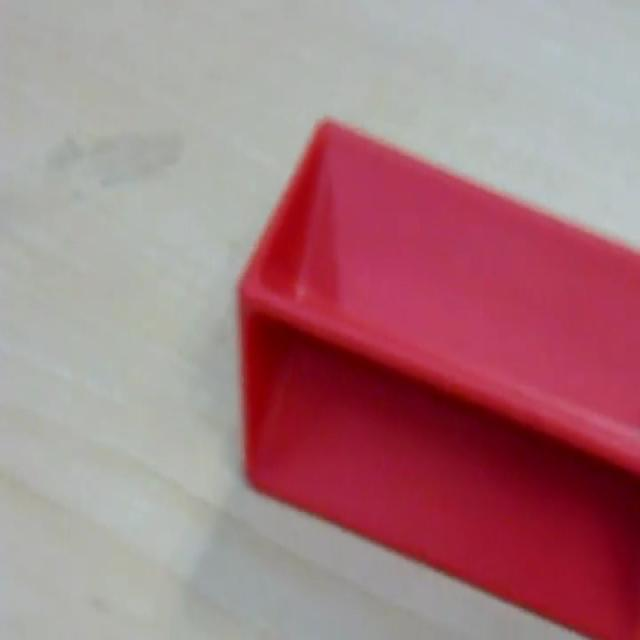red_block: (236, 113, 638, 636)
